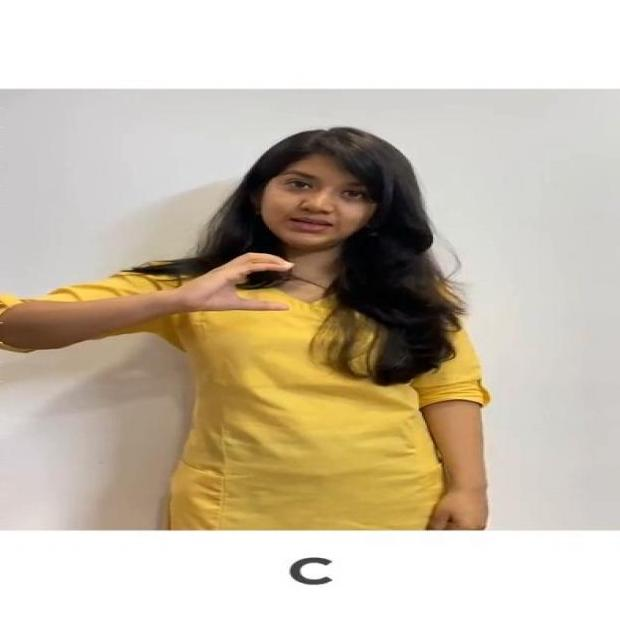B: (164, 245, 305, 322)
